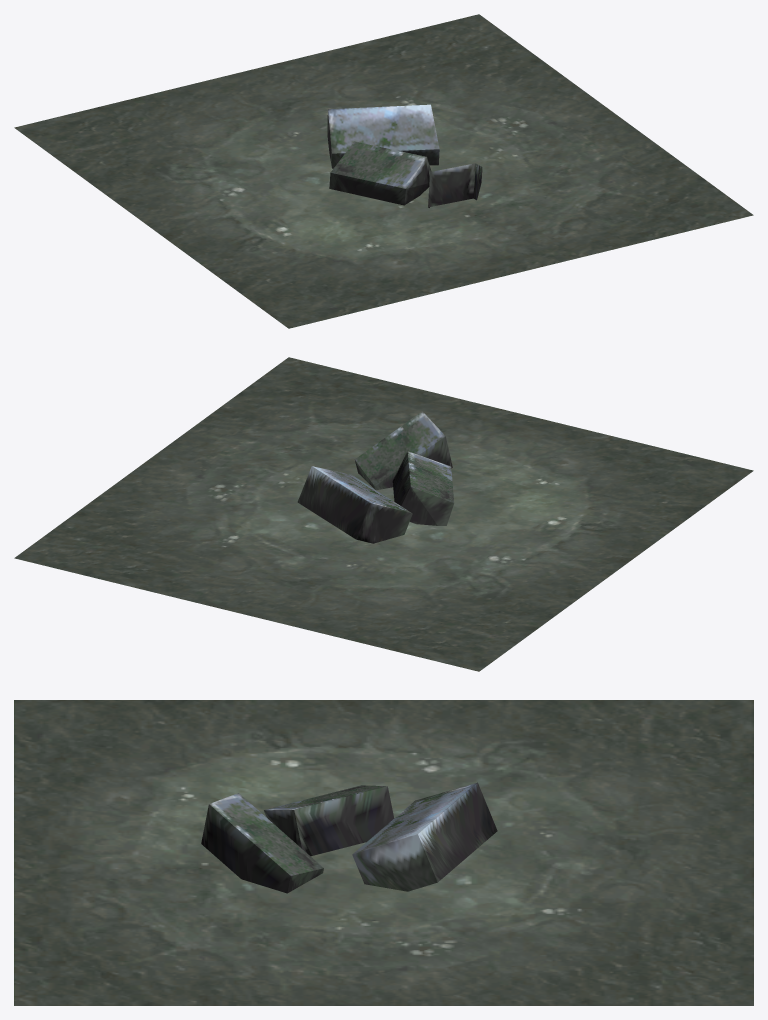
The model's file is stemple_floor_rubble_06.fbx.
The picture shows the model from 3 angles, top to bottom: view 1: azimuth 30°, elevation 25°; view 2: azimuth 150°, elevation 25°; view 3: azimuth 270°, elevation 25°; orthographic projection. The views are drawn at different scales.
Visible parts, largest first — view 1: stemple_floor_rubble_06-0; view 2: stemple_floor_rubble_06-0; view 3: stemple_floor_rubble_06-0.
Part boxes in pixels (x1,y1,x2,y2): stemple_floor_rubble_06-0: (14, 14, 753, 328); stemple_floor_rubble_06-0: (14, 357, 753, 671); stemple_floor_rubble_06-0: (14, 700, 753, 1005).
Bounding box in the file's own units: 3.91 × 0.62 × 4.
